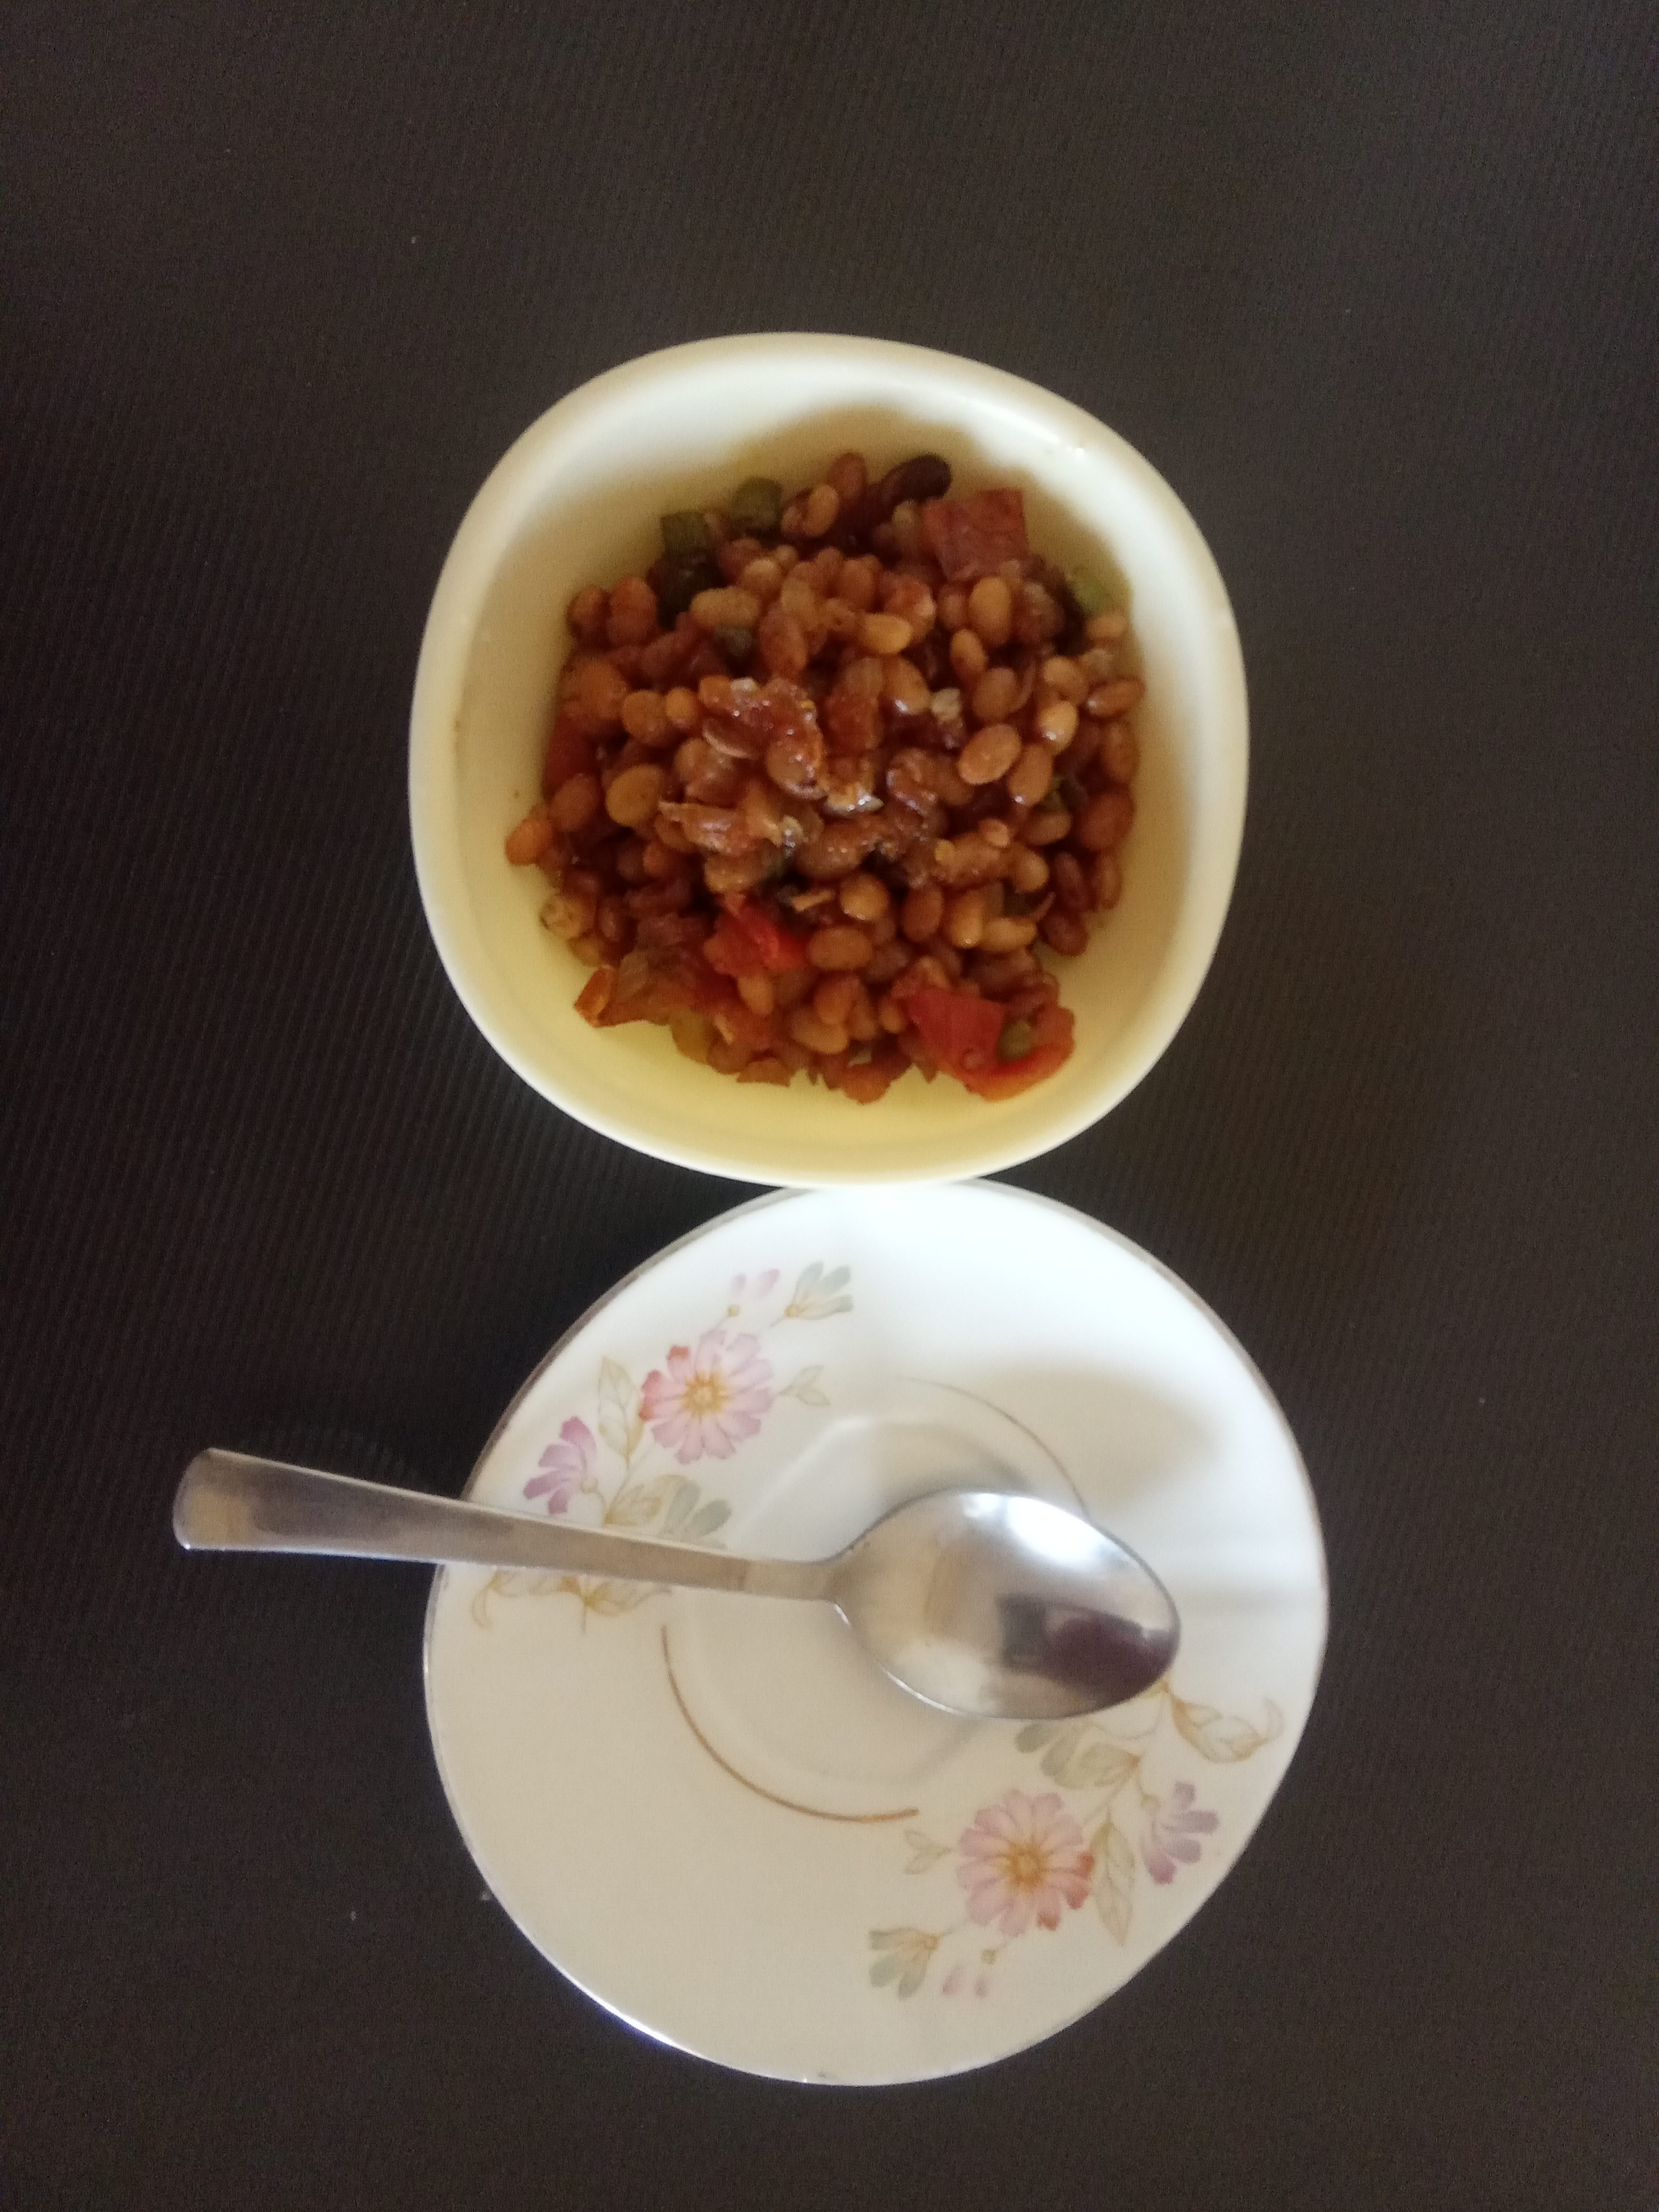food: (497, 444, 1150, 1099)
